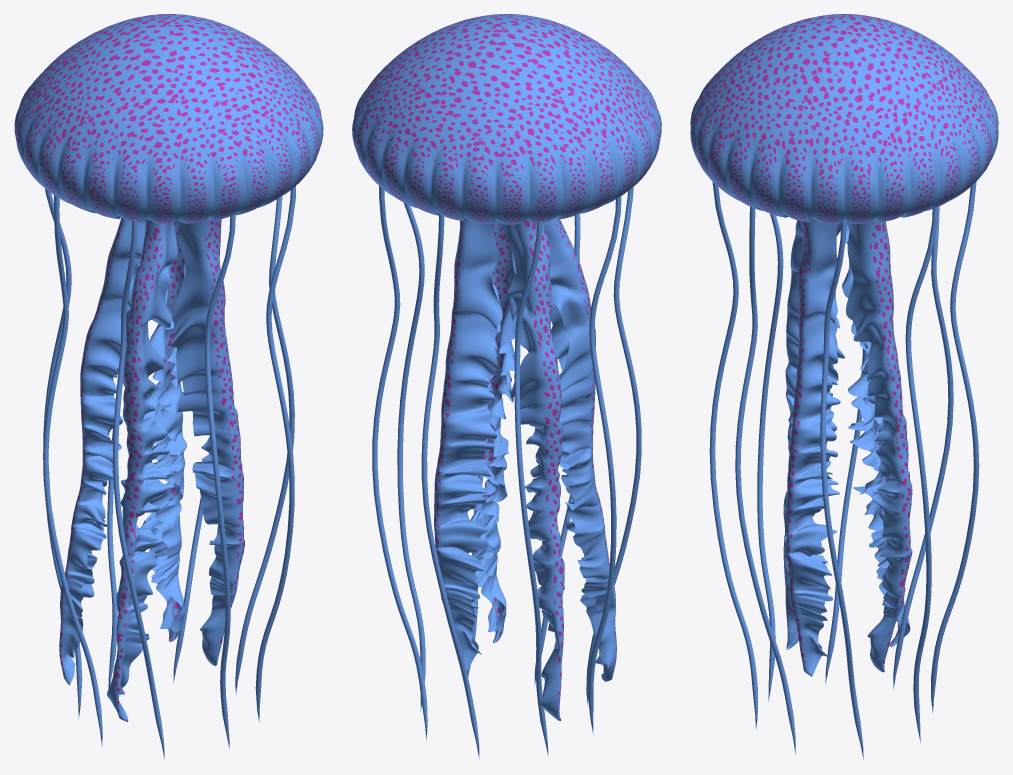
The model's file is jellyfish-optimized.glb.
The picture shows the model from 3 angles, left to right: view 1: azimuth 30°, elevation 25°; view 2: azimuth 150°, elevation 25°; view 3: azimuth 270°, elevation 25°; orthographic projection.
Parts seen in each view (by area): view 1: Cylinder.001, BezierCurve.001; view 2: Cylinder.001, BezierCurve.001; view 3: Cylinder.001, BezierCurve.001.
Boxes of the visible parts, box(x1,y1,x2,y2) form: Cylinder.001: box(14, 14, 323, 721); BezierCurve.001: box(43, 186, 295, 759); Cylinder.001: box(352, 14, 661, 720); BezierCurve.001: box(372, 186, 641, 759); Cylinder.001: box(690, 14, 998, 676); BezierCurve.001: box(709, 182, 979, 759).
Bounding box in the file's own units: 0.9188 × 2.29 × 0.9188.
1 material, 1 textured.
